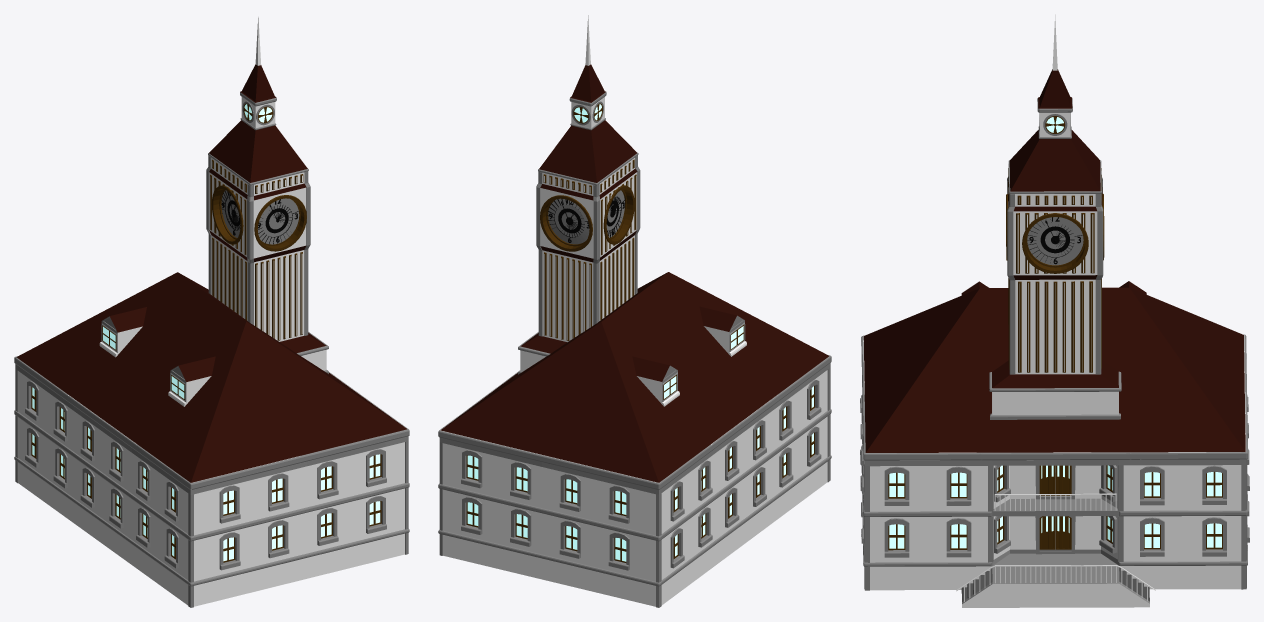
File: res_models_city_hall.glb
3 views of the same model, side by side, from view 1: azimuth 30°, elevation 25°; view 2: azimuth 150°, elevation 25°; view 3: azimuth 270°, elevation 25° (orthographic). The views are drawn at different scales.
Visible parts, largest first — view 1: Town hall; view 2: Town hall; view 3: Town hall.
Boxes of the visible parts, x1,y1,x2,y2 form: Town hall: (14,16,409,607); Town hall: (438,15,831,607); Town hall: (860,14,1249,607).
Size of the model in its own units: 58.29 by 107 by 69.85.
